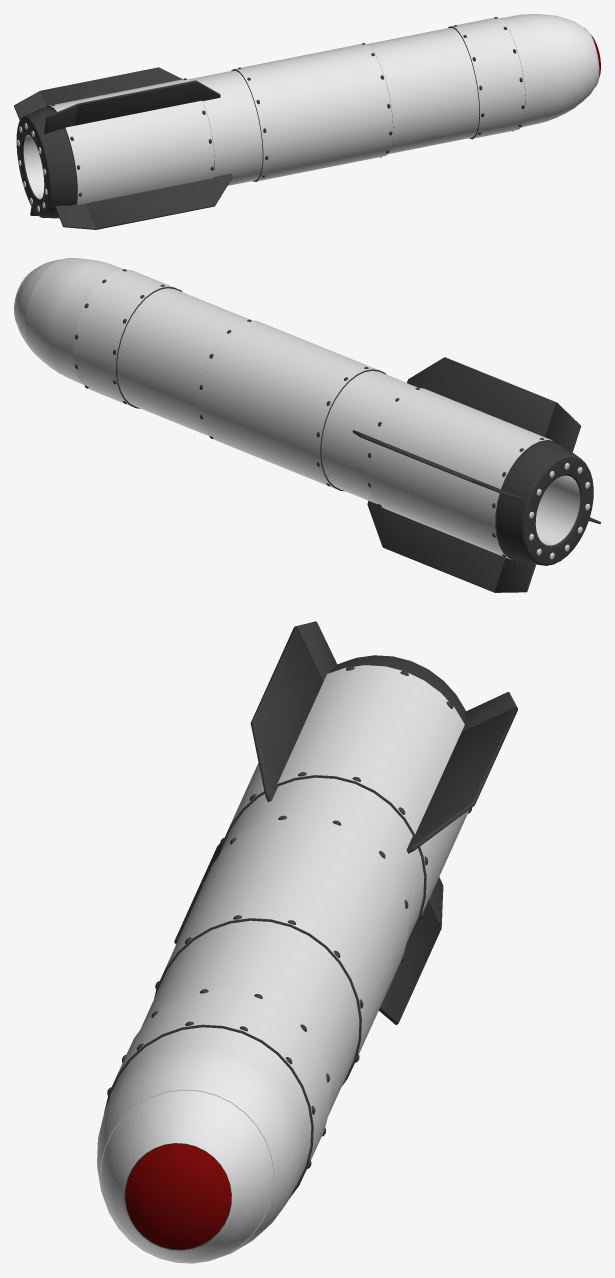
File: Rocket1.fbx
3 renders of one model, top to bottom at view 1: azimuth 30°, elevation 25°; view 2: azimuth 150°, elevation 25°; view 3: azimuth 270°, elevation 25°, orthographic. The views are drawn at different scales.
Parts seen in each view (by area): view 1: Drone.003_Drone.003; view 2: Drone.003_Drone.003; view 3: Drone.003_Drone.003.
Boxes of the visible parts, x1,y1,x2,y2 form: Drone.003_Drone.003: (14,14,600,229); Drone.003_Drone.003: (14,258,600,592); Drone.003_Drone.003: (97,621,517,1263).
Size of the model in its own units: 197 by 53.7 by 69.06.
